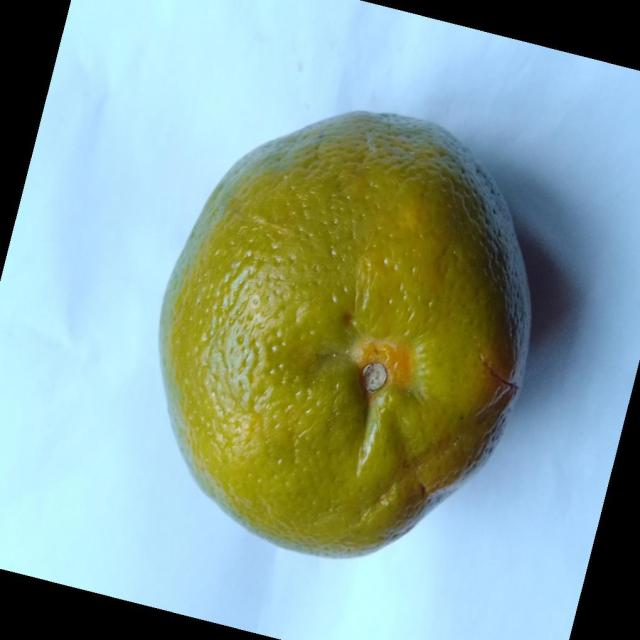fresh orange: (157, 108, 533, 560)
